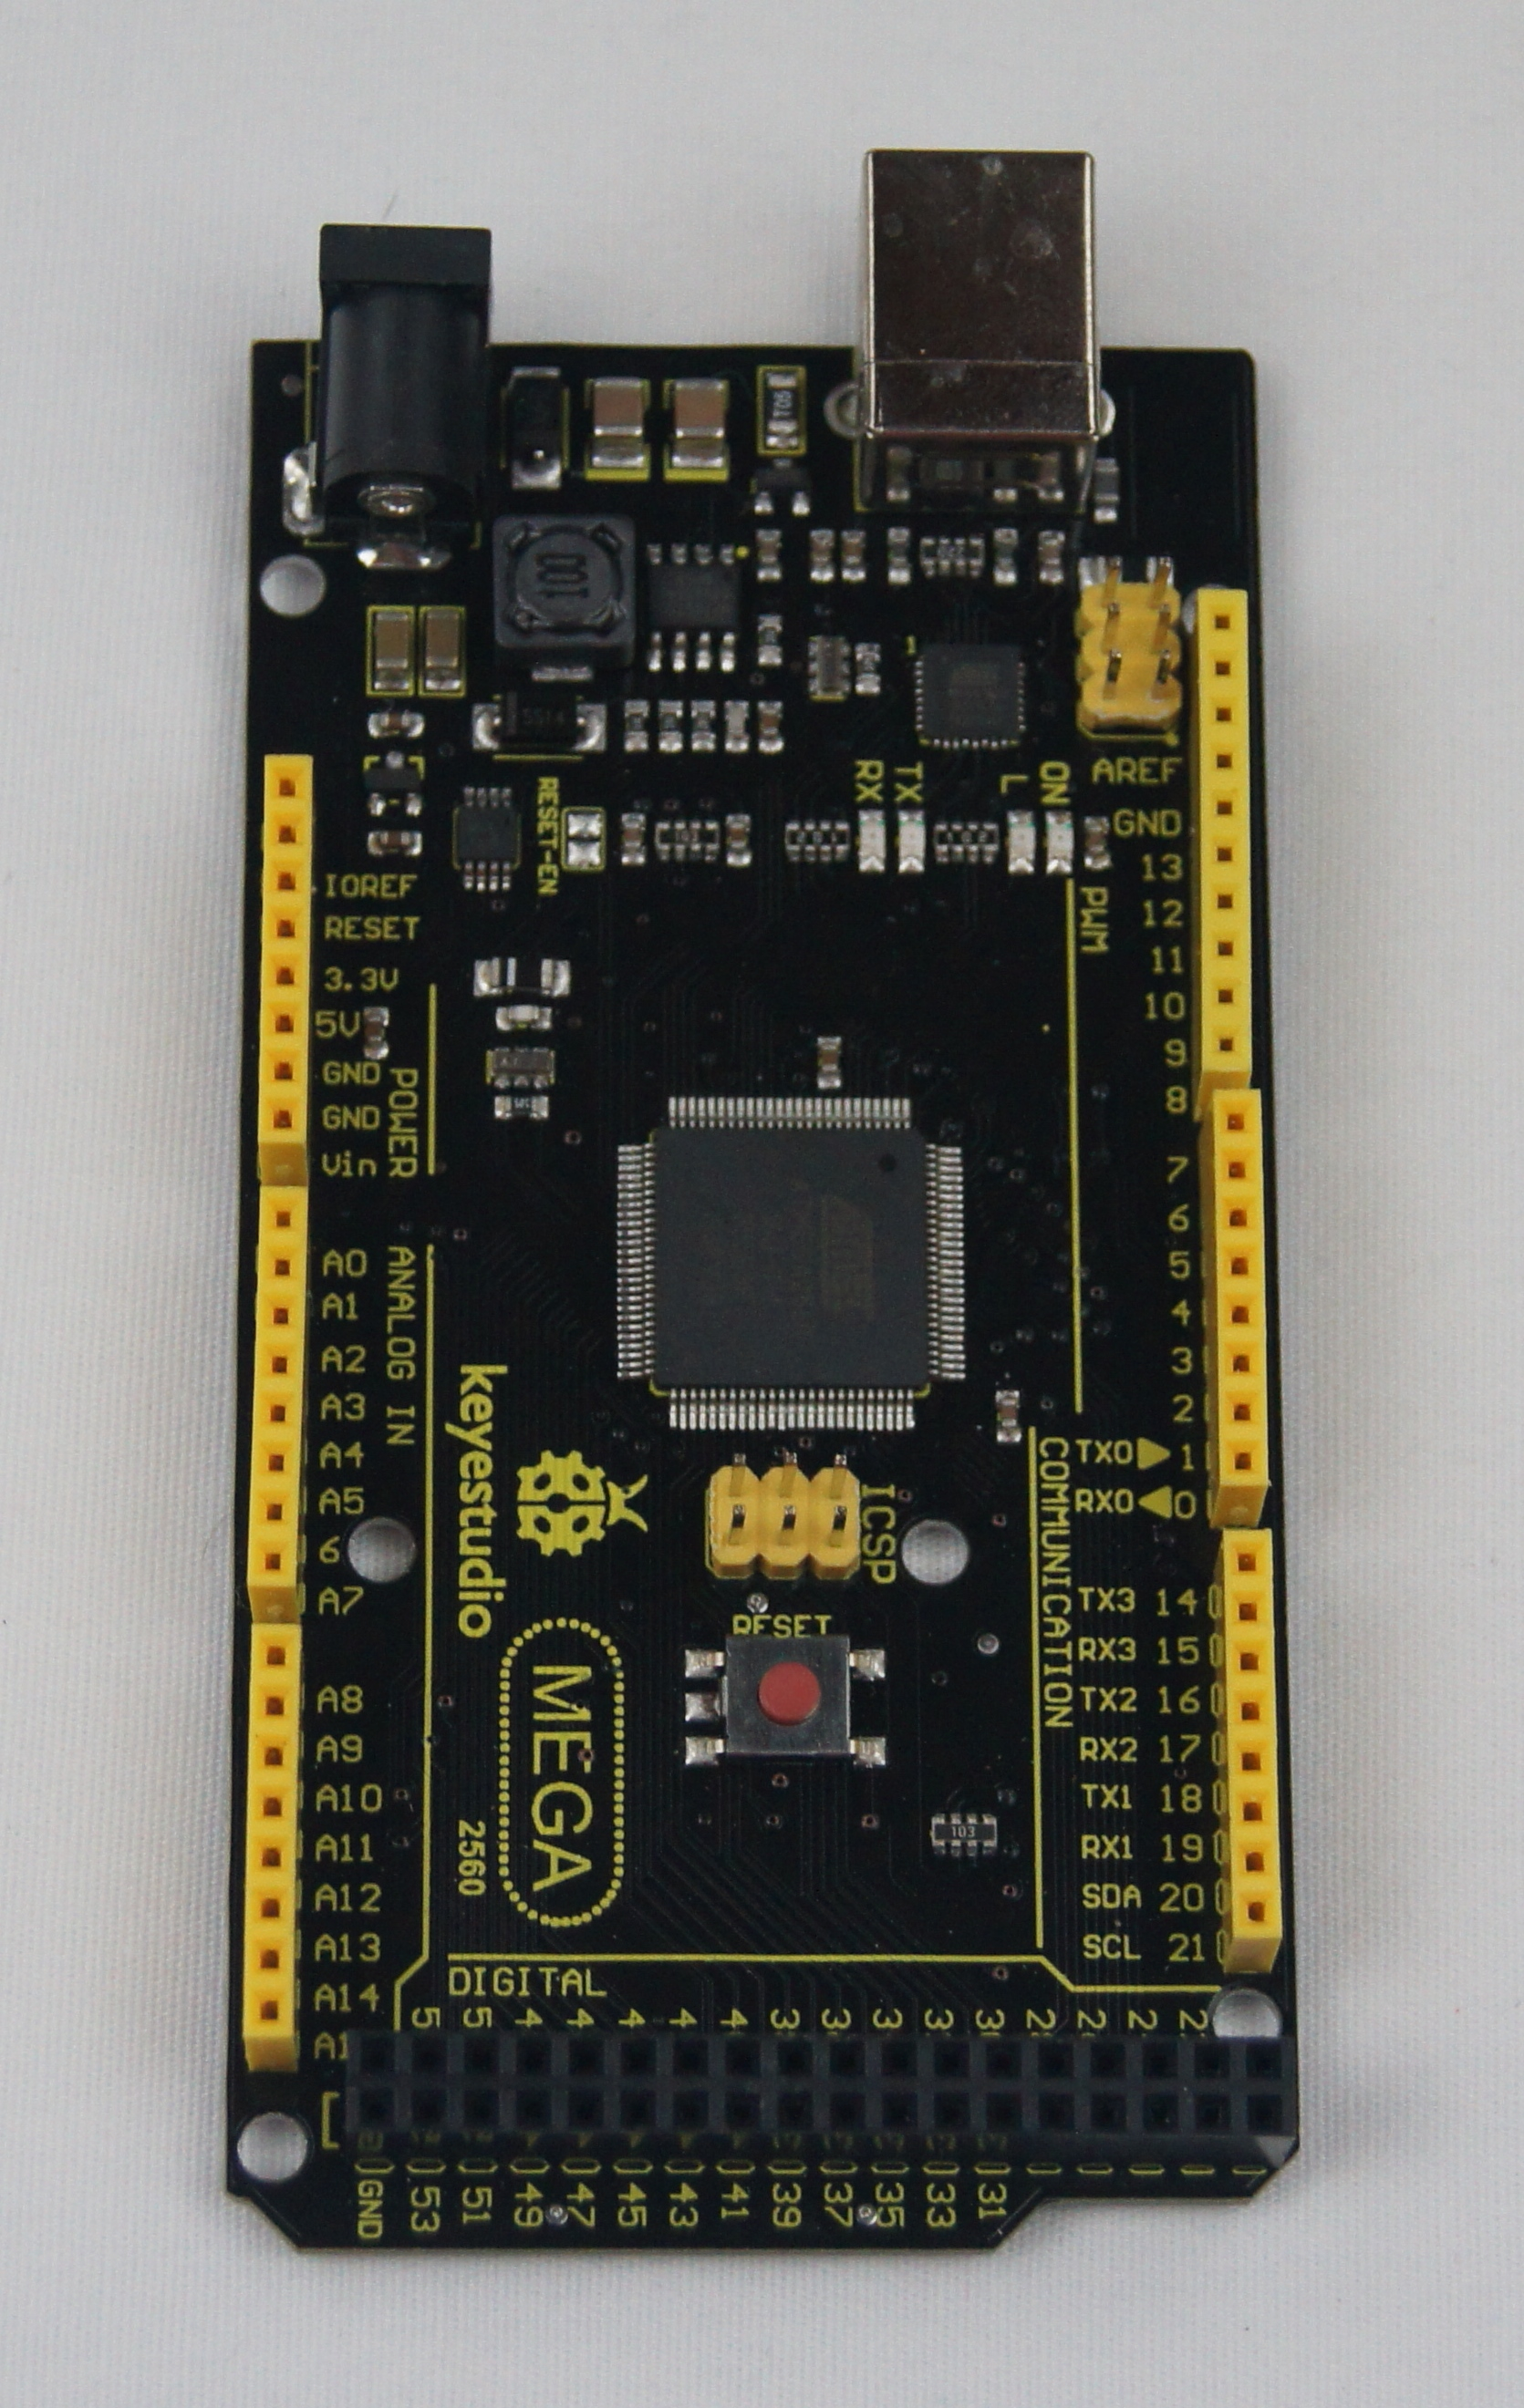connector: (342, 2025, 1301, 2146), (307, 207, 493, 563), (1187, 577, 1264, 1081), (1215, 1525, 1292, 1950), (1199, 1081, 1273, 1501), (242, 1178, 307, 1599), (242, 1616, 302, 2046), (255, 749, 314, 1151), (1076, 555, 1189, 737), (702, 1453, 864, 1578)
